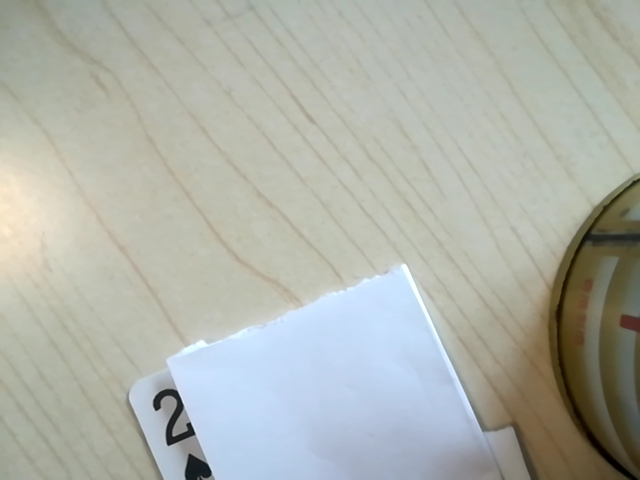ht 2: (139, 367, 213, 477)
